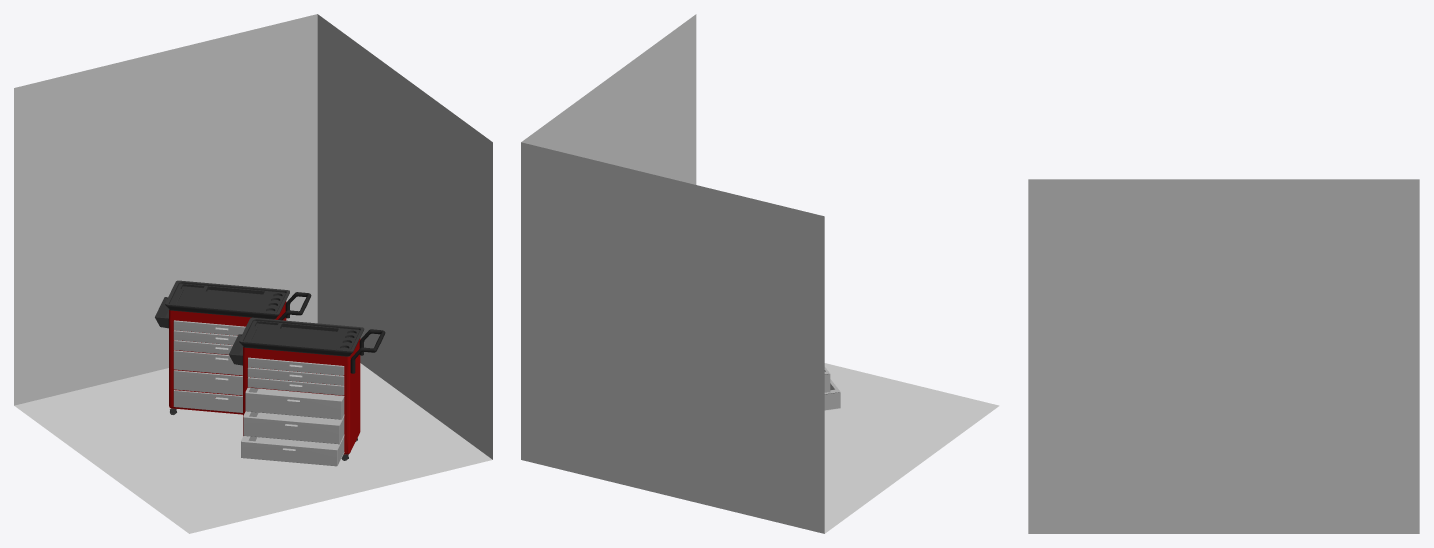
Rendered from Tools+box.fbx.
The picture shows the model from 3 angles, left to right: view 1: azimuth 30°, elevation 25°; view 2: azimuth 150°, elevation 25°; view 3: azimuth 270°, elevation 25°; orthographic projection. The views are drawn at different scales.
Visible parts, largest first — view 1: pPlane4, pCylinder2, pCylinder1; view 2: pPlane4; view 3: pPlane4.
Part boxes in pixels (x1,y1,x2,y2): pPlane4: [14, 14, 492, 533]; pCylinder2: [229, 317, 385, 466]; pCylinder1: [155, 280, 311, 414]; pPlane4: [521, 14, 999, 533]; pPlane4: [1028, 179, 1419, 533].
Bounding box in the file's own units: 32 × 32 × 32.
